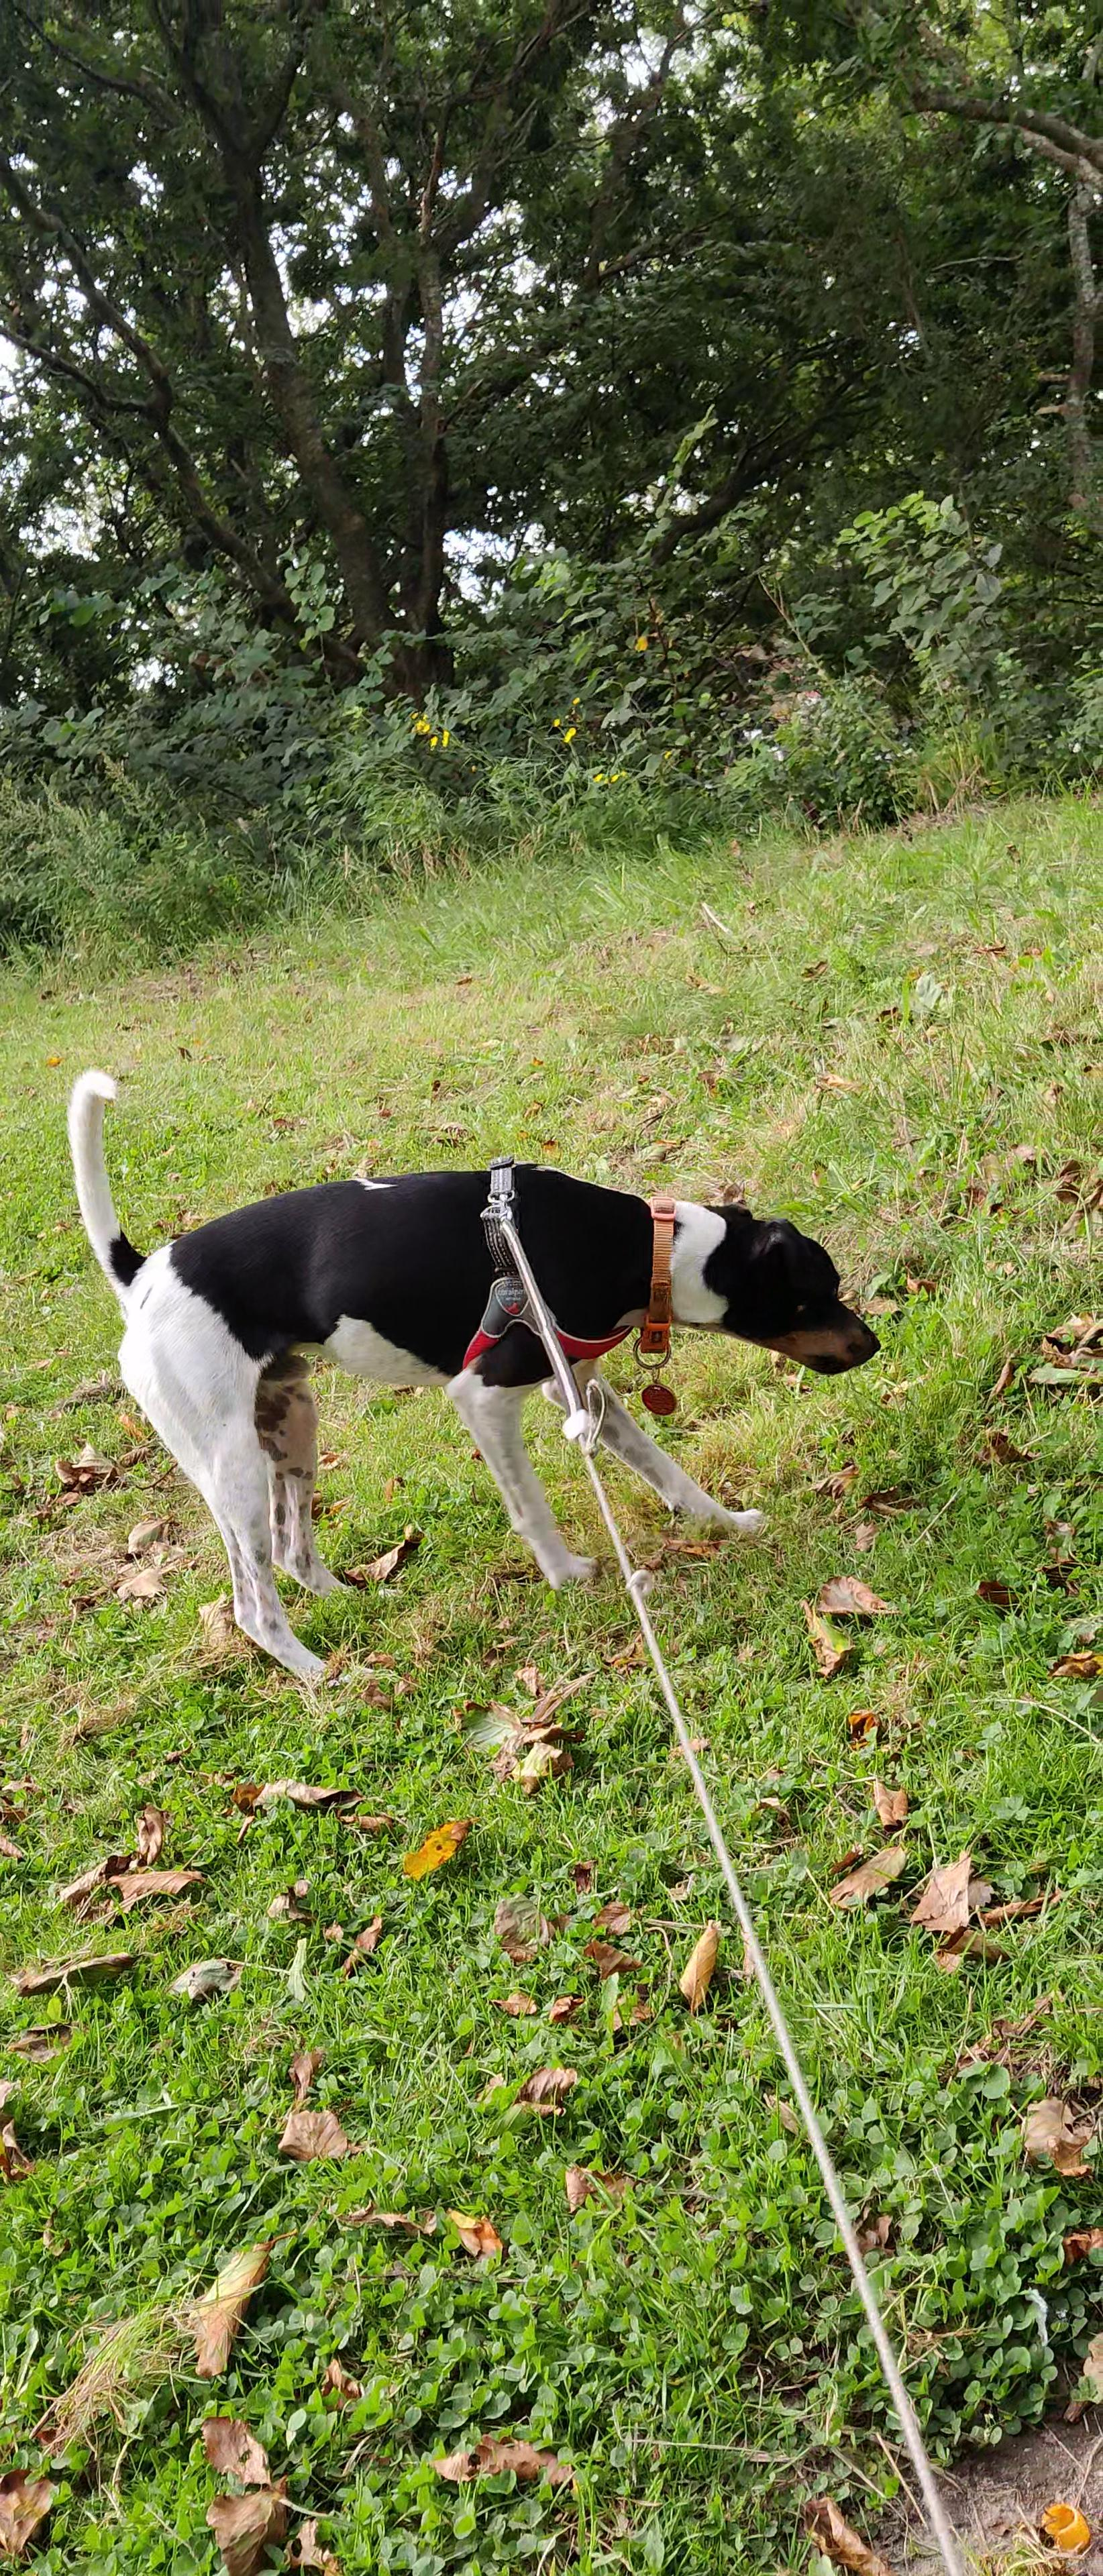Dog: (56, 1065, 894, 1720)
